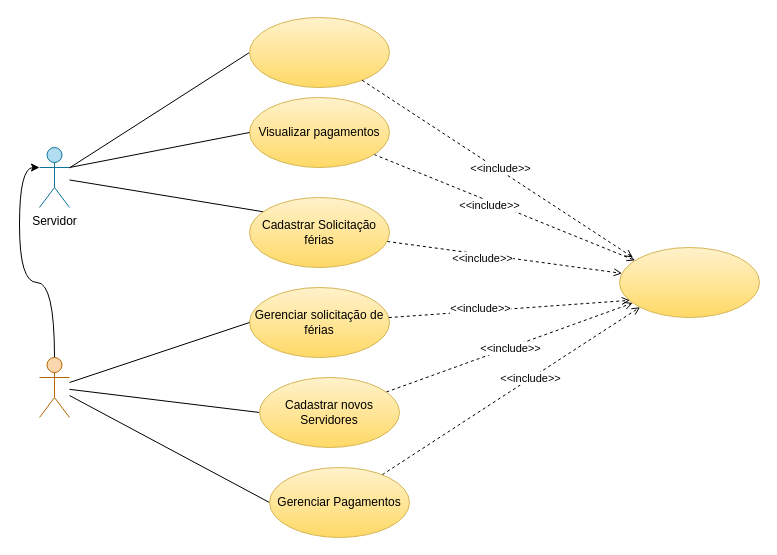
The diagram is 777 pixels wide and 555 high, and some of its shapes have lost their labels. The centre of each missing label's shape, as x and y in pixels:
Administrador: point (54, 387)
Fazer login: point (689, 282)
Visualizar Solicitação férias: point (319, 52)
